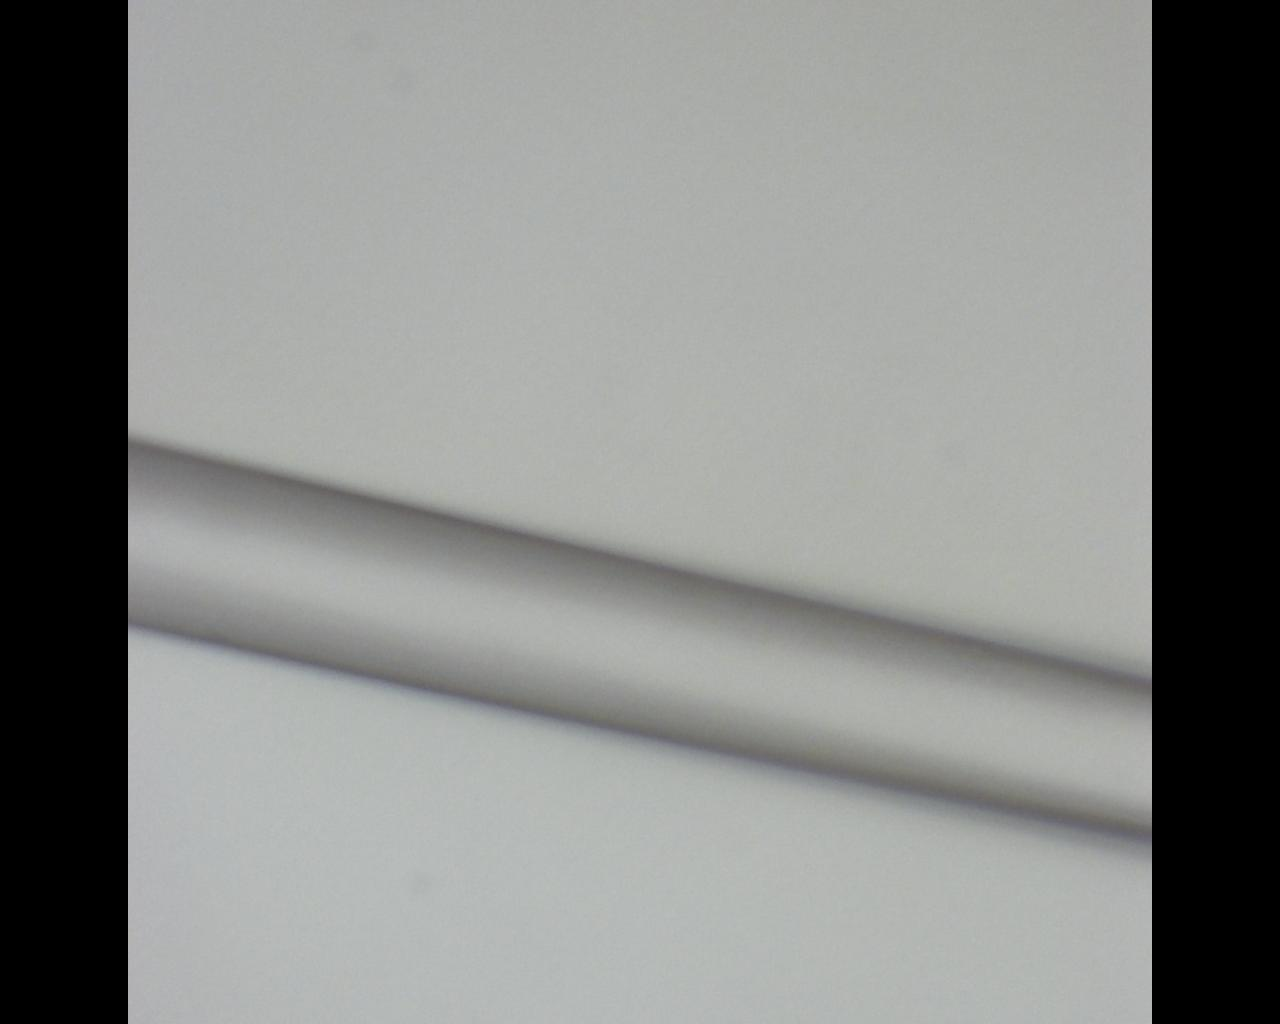fiber: (128, 391, 1152, 445)
